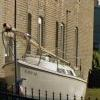Boat: (2, 21, 90, 100)
